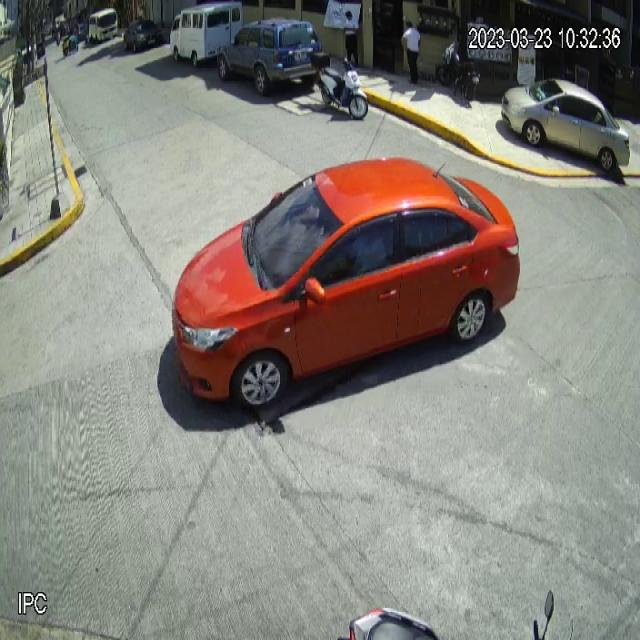Car: (172, 154, 521, 410), (501, 77, 632, 172), (216, 18, 322, 96)
Motorcycle: (310, 49, 369, 121)
Van: (170, 1, 244, 70)
